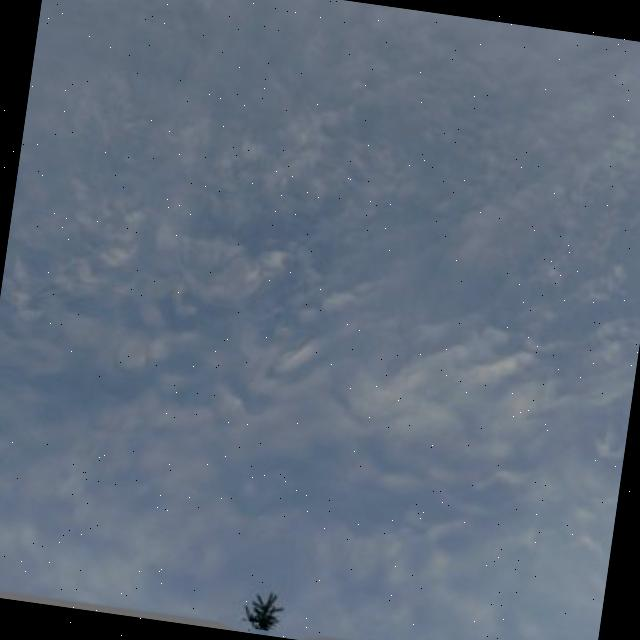Cc: (1, 75, 640, 543)
